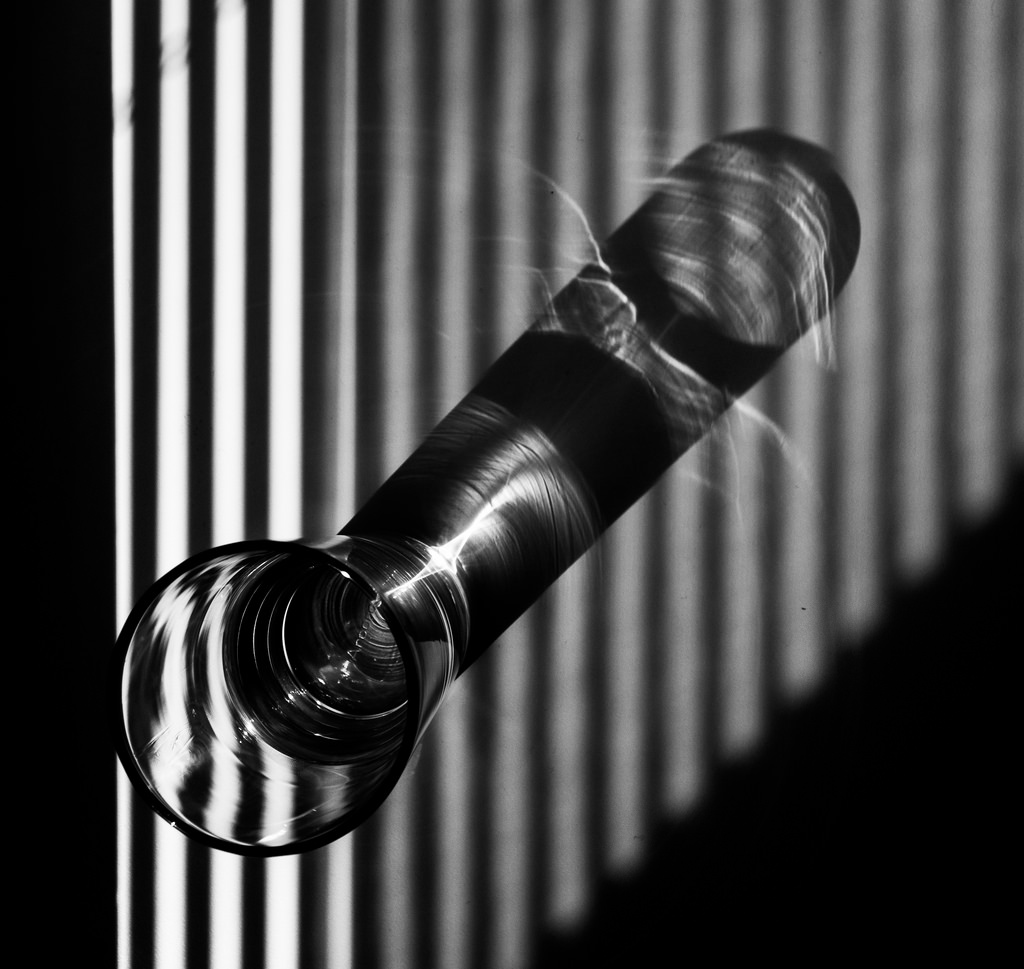glass of water: (101, 542, 454, 855)
